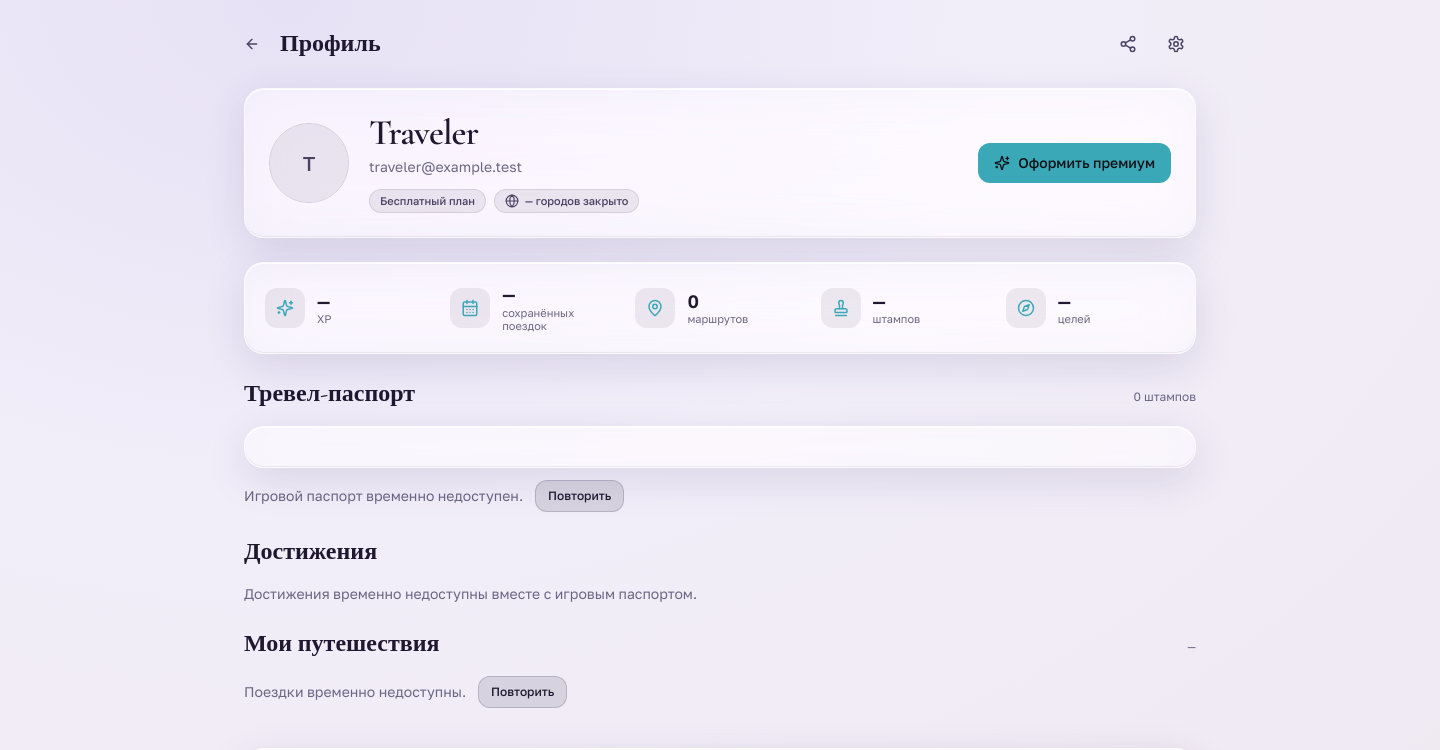
ProfilePage live data › keeps game and Suitcase errors separate and retries each source independently
Expected: the text "Достижения временно недоступны вместе с игровым паспортом." is shown, [244,585,697,602]
What coordinates should you click on to do the following:
click the button "Повторить" next to "Игровой паспорт временно недоступен."
I would click on:
 (580, 496)
Its box is [535,480,624,512].
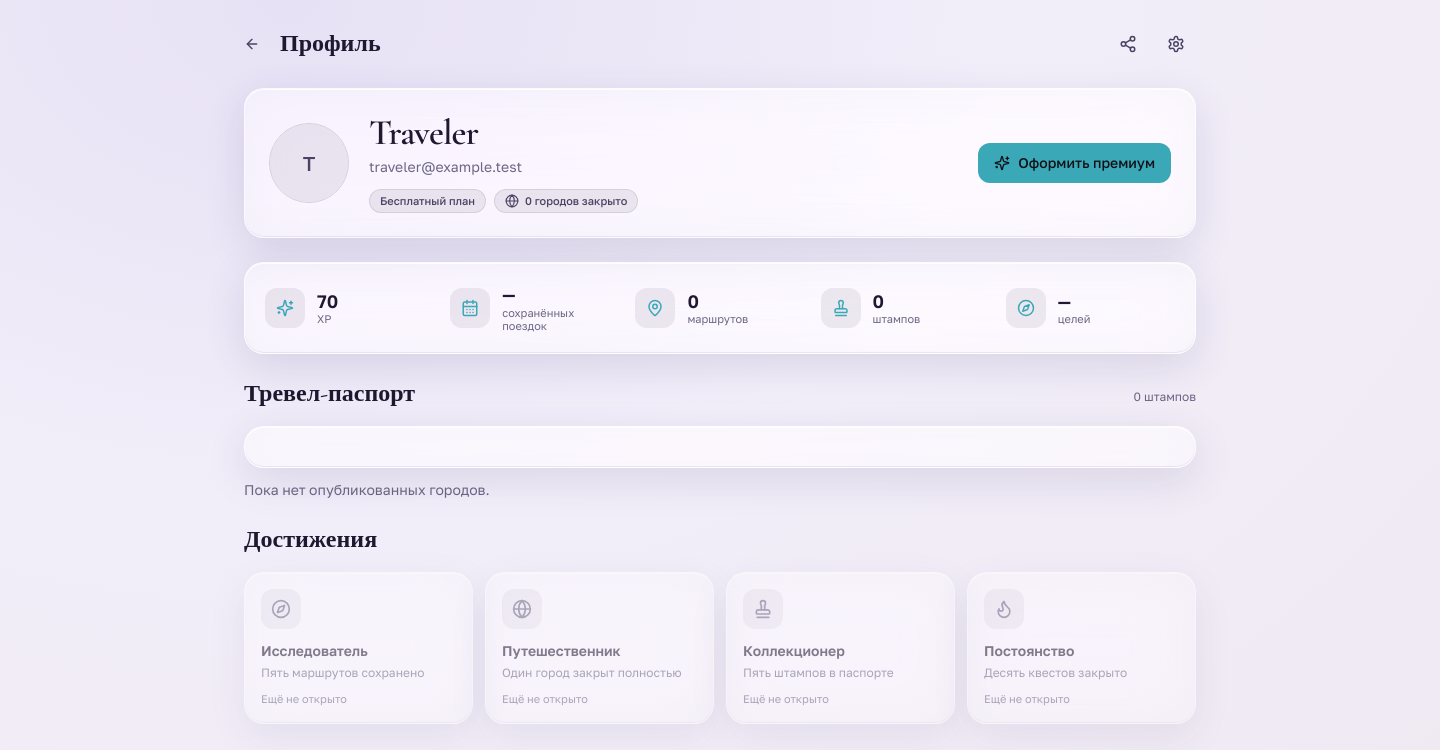
Expected: the text "70" is shown, [317,290,338,312]
